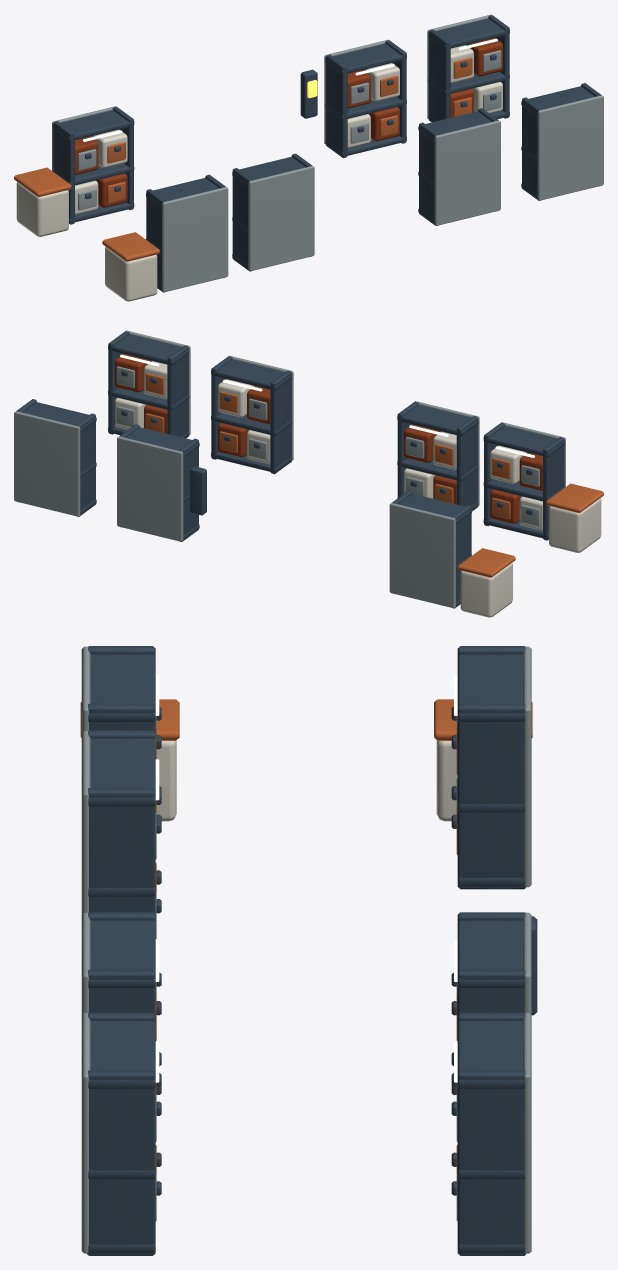
File: SM_SSTO_InteriorProps.fbx
The picture shows the model from 3 angles, top to bottom: view 1: azimuth 30°, elevation 25°; view 2: azimuth 150°, elevation 25°; view 3: azimuth 270°, elevation 25°; orthographic projection. The views are drawn at different scales.
Parts seen in each view (by area): view 1: SM_SSTO_InteriorProps; view 2: SM_SSTO_InteriorProps; view 3: SM_SSTO_InteriorProps.
Part boxes in pixels (x1,y1,x2,y2): SM_SSTO_InteriorProps: (14,14,603,301); SM_SSTO_InteriorProps: (14,330,603,617); SM_SSTO_InteriorProps: (80,646,537,1255).
Size of the model in its own units: 1209 by 499 by 222.
